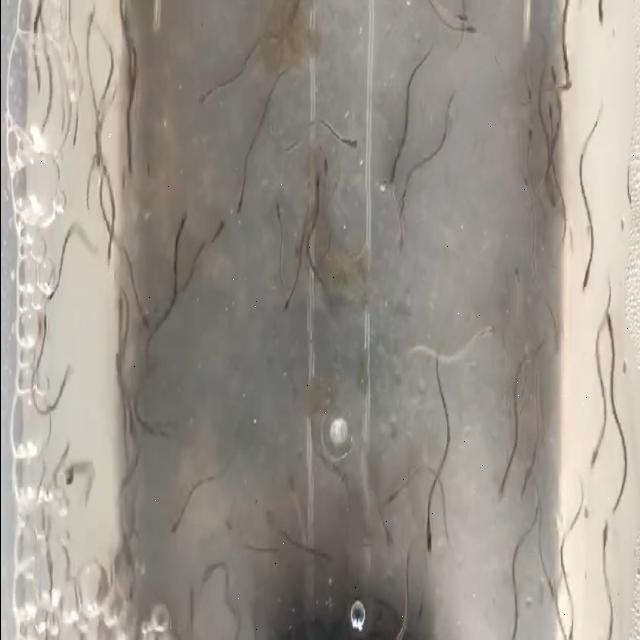active_glass_eel: (513, 457, 537, 522), (88, 234, 120, 282), (210, 190, 228, 254), (192, 64, 210, 128), (416, 518, 441, 562), (482, 476, 508, 518), (539, 158, 557, 218), (343, 128, 368, 170), (80, 0, 103, 44), (586, 522, 616, 554), (195, 555, 211, 614), (232, 180, 248, 237), (381, 163, 401, 201), (273, 292, 293, 328), (542, 564, 558, 608), (483, 309, 503, 344), (176, 200, 193, 240), (579, 444, 603, 472), (562, 40, 578, 82), (163, 512, 184, 544), (136, 291, 152, 333), (380, 520, 400, 550), (314, 163, 330, 200), (264, 508, 278, 546), (262, 203, 282, 229), (122, 151, 138, 183), (389, 196, 408, 220), (604, 304, 618, 336), (572, 269, 592, 289), (522, 82, 534, 115), (466, 18, 477, 52), (544, 100, 556, 130), (544, 69, 558, 91), (284, 471, 300, 489), (520, 129, 534, 137)
